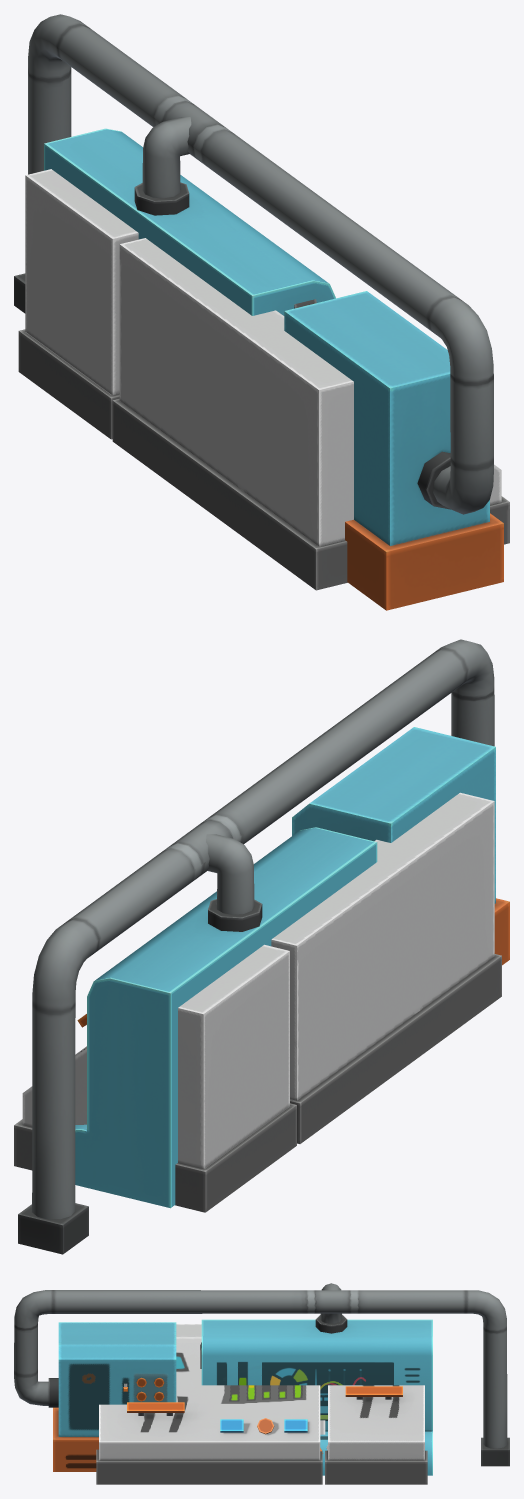
Rendered from laba.fbx.
3 views of the same model, one above another, from view 1: azimuth 30°, elevation 25°; view 2: azimuth 150°, elevation 25°; view 3: azimuth 270°, elevation 25° (orthographic). The views are drawn at different scales.
Parts seen in each view (by area): view 1: laba1, laba3; view 2: laba1, laba3; view 3: laba1, laba3.
Boxes of the visible parts, bbox=[...] form: laba1: bbox=[14, 14, 503, 610]; laba3: bbox=[18, 169, 509, 590]; laba1: bbox=[18, 639, 509, 1254]; laba3: bbox=[14, 792, 501, 1212]; laba1: bbox=[14, 1283, 509, 1475]; laba3: bbox=[96, 1324, 427, 1484].
Bounding box in the file's own units: 66.65 × 99.62 × 266.
